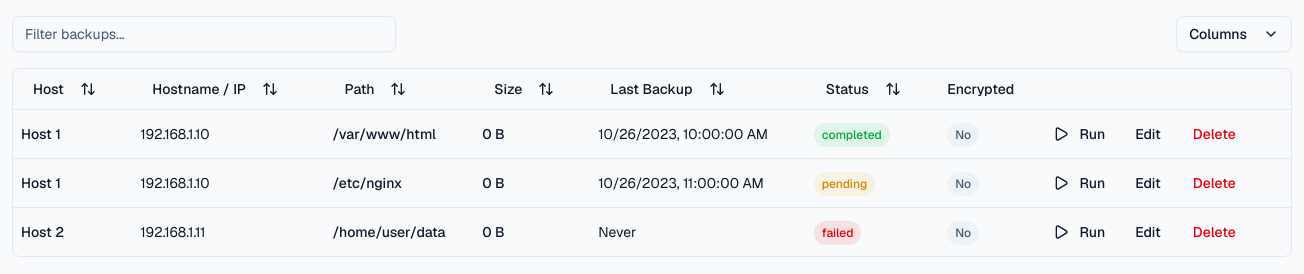
Test case: BackupsTable › Filtering › filters rows by path
This screenshot has width=1304, height=274.
Type "/var/www" into the field with placeholder "Filter backups..." at coordinates (204, 34), box [12,16,396,52]
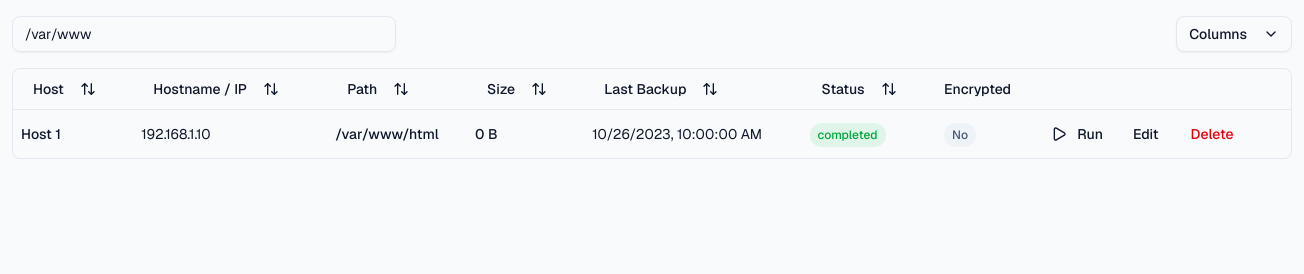
Expected: the text "/var/www/html" is shown, [335,124,439,142]
Expected: the text "/etc/nginx" is gone
Expected: the text "/home/user/data" is gone
